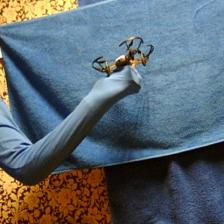drone: (91, 35, 155, 77)
